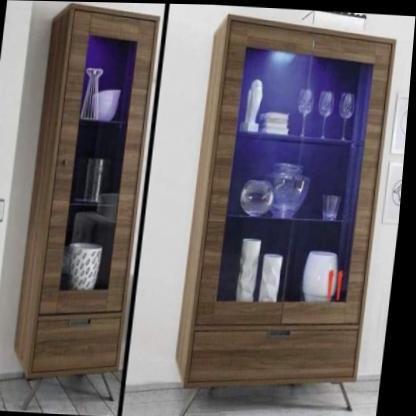Cupboard: (177, 11, 403, 400), (16, 1, 162, 379)
